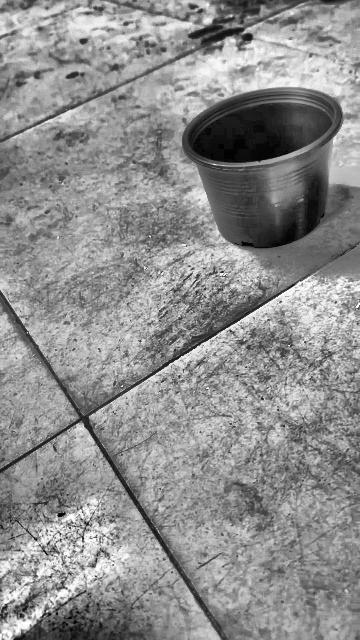pot: (182, 88, 341, 248)
